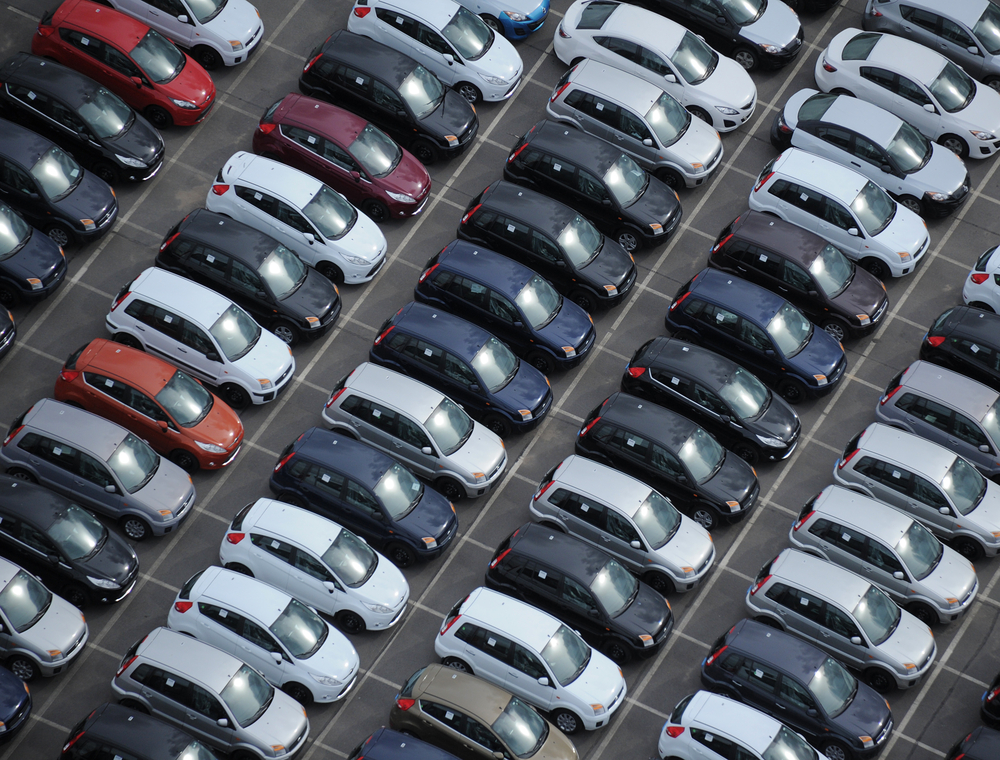Car: (435, 588, 626, 734), (0, 399, 195, 540), (745, 549, 936, 692), (554, 0, 756, 132), (106, 267, 295, 408), (702, 619, 893, 758), (486, 523, 673, 664), (168, 567, 359, 704), (111, 628, 309, 760), (270, 428, 458, 567), (530, 455, 715, 596), (790, 486, 977, 625), (220, 497, 409, 633), (322, 363, 507, 501), (576, 393, 761, 530), (156, 209, 341, 346), (55, 339, 244, 472), (771, 89, 969, 215), (370, 301, 553, 437), (666, 268, 846, 403), (815, 27, 1000, 158), (415, 240, 594, 373), (750, 147, 930, 279), (206, 152, 386, 284), (300, 30, 477, 163), (504, 120, 682, 252), (32, 0, 215, 128), (708, 211, 888, 341), (458, 181, 636, 312), (253, 93, 431, 222), (833, 423, 1000, 560), (547, 60, 722, 190), (622, 337, 800, 464), (0, 53, 165, 183), (389, 663, 579, 760), (0, 475, 139, 607), (348, 0, 523, 104), (0, 118, 118, 247), (876, 361, 1000, 481), (616, 0, 804, 71), (863, 0, 1000, 91), (658, 691, 825, 760), (98, 0, 264, 69), (0, 558, 88, 681), (60, 703, 215, 760), (0, 201, 67, 307), (920, 306, 1000, 389), (348, 728, 464, 760), (457, 0, 549, 40), (962, 244, 1000, 314), (0, 665, 32, 739), (783, 0, 840, 16), (0, 303, 16, 357)
